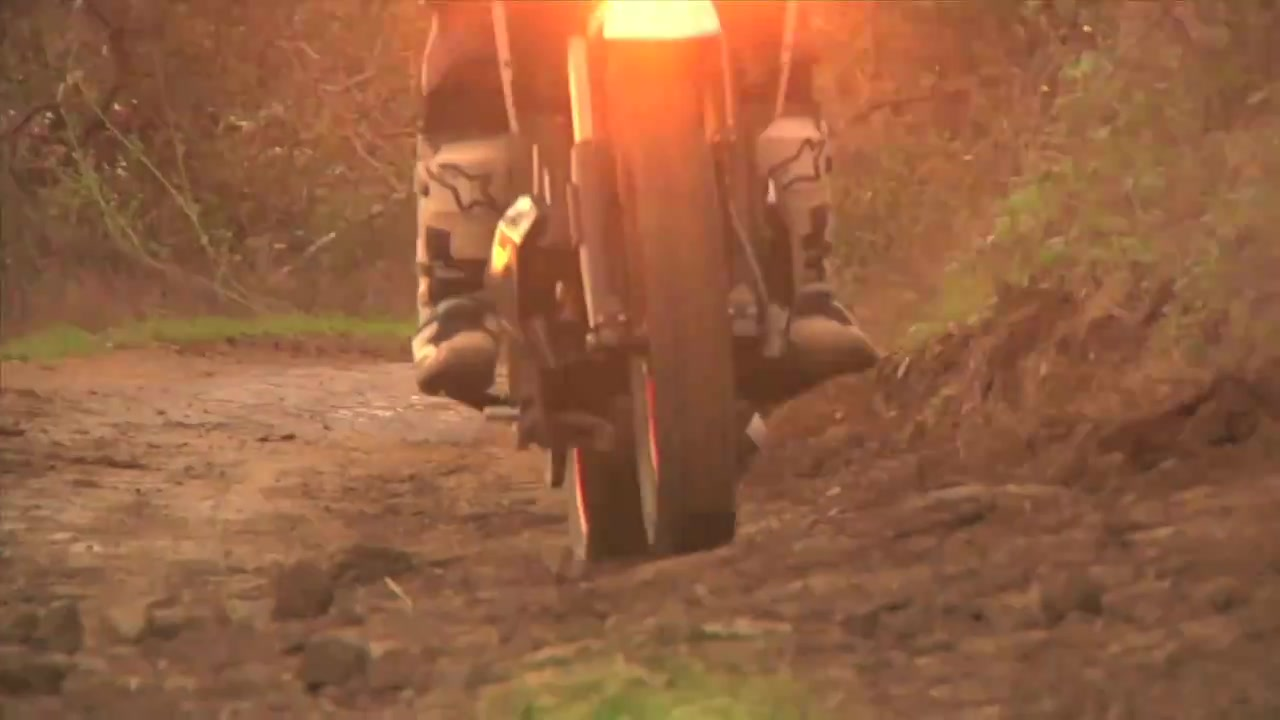motorbike: (449, 1, 828, 571)
